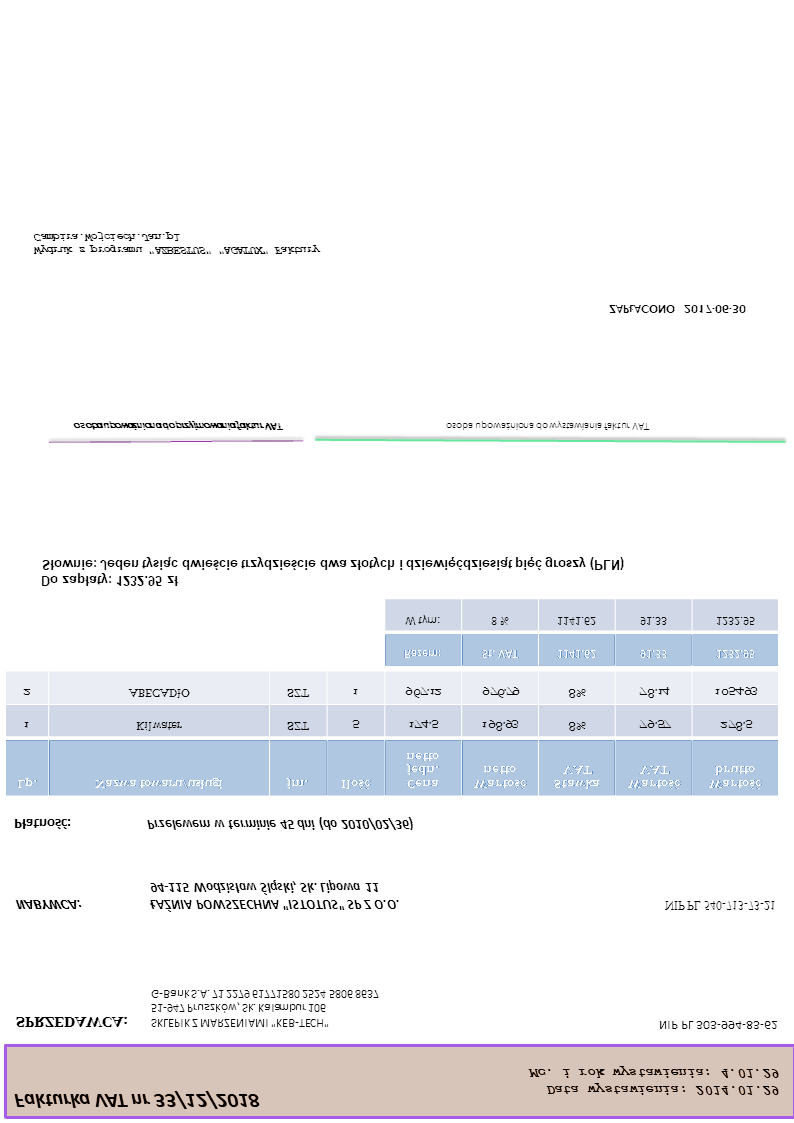Table: (3, 672, 779, 799), (382, 597, 779, 668)
TextBox: (38, 553, 627, 590), (148, 984, 381, 1033), (524, 1063, 781, 1100), (146, 878, 403, 914), (31, 229, 324, 260), (10, 1088, 262, 1115), (144, 816, 415, 833), (70, 418, 283, 435), (442, 419, 653, 434), (606, 300, 749, 318), (12, 1012, 128, 1032), (656, 1017, 780, 1035), (660, 897, 779, 915), (12, 895, 82, 913), (10, 815, 73, 833)
